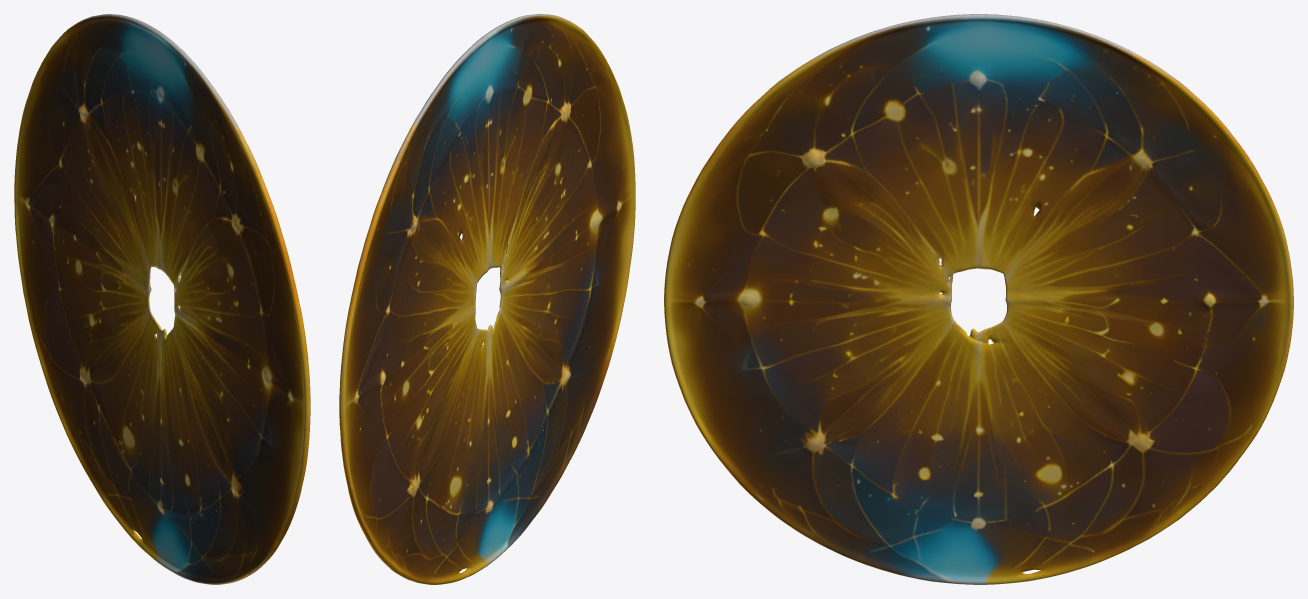
File: light.fbx
The picture shows the model from 3 angles, left to right: view 1: azimuth 30°, elevation 25°; view 2: azimuth 150°, elevation 25°; view 3: azimuth 270°, elevation 25°; orthographic projection. The views are drawn at different scales.
Visible parts, largest first — view 1: tripo_node_522bd95e; view 2: tripo_node_522bd95e; view 3: tripo_node_522bd95e.
Boxes of the visible parts, x1,y1,x2,y2 form: tripo_node_522bd95e: (14, 14, 310, 584); tripo_node_522bd95e: (339, 14, 635, 584); tripo_node_522bd95e: (664, 14, 1293, 584).
Bounding box in the file's own units: 2.3 × 99.87 × 99.97.
Materials: 1 (1 with a texture image).
